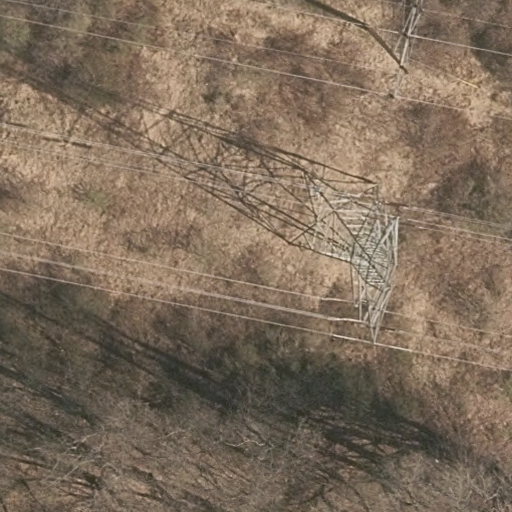DT: (383, 2, 428, 110)
TT: (297, 174, 406, 349)
